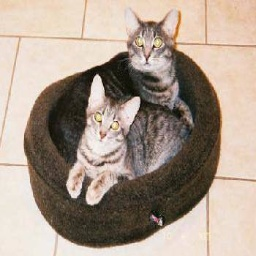cat: (51, 8, 206, 209)
